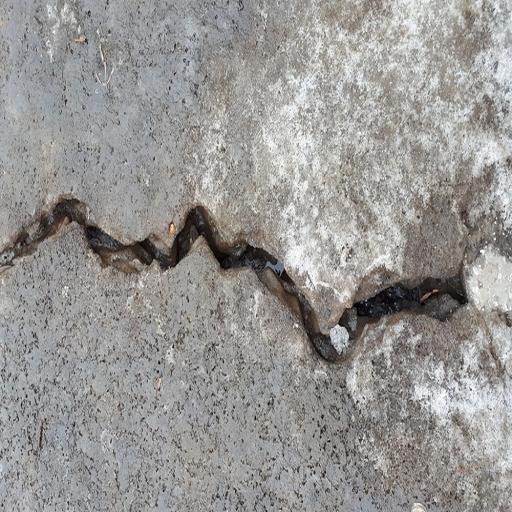spalling: (0, 198, 341, 362), (337, 275, 470, 343)
